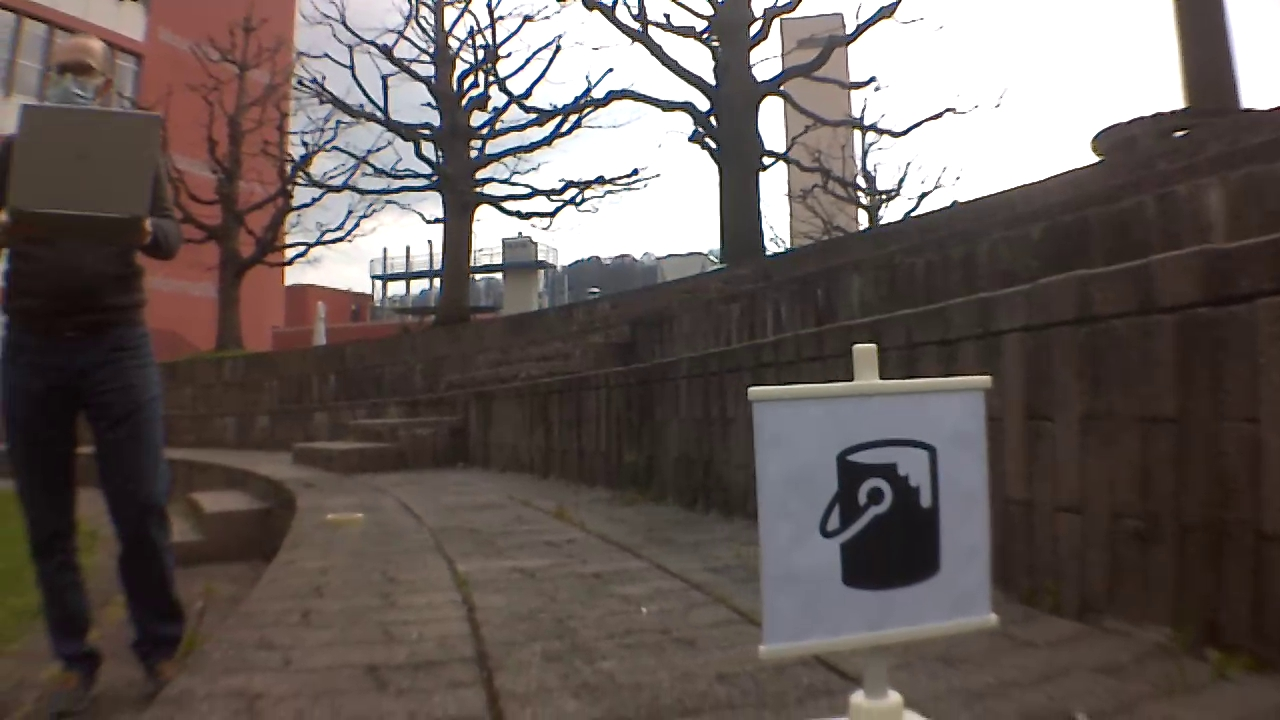bucket: (819, 431, 944, 592)
